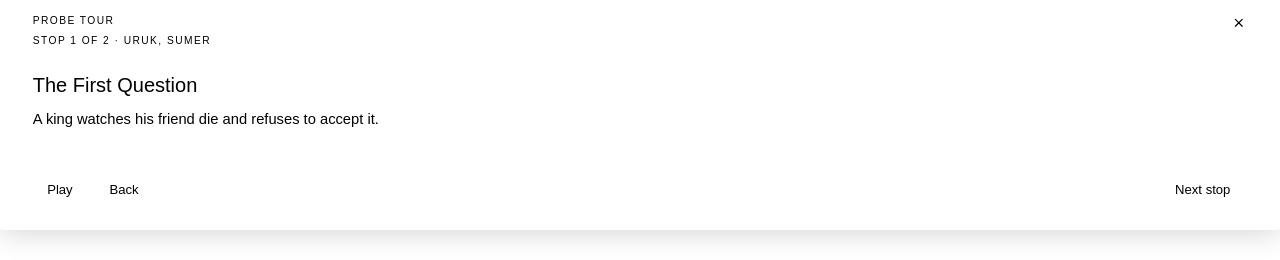
TourPlayer › advances to the next stop and writes the url without navigating
Expected: the heading "The First Question" is shown, [33,74,197,96]
What coordinates should you click on to do the following:
click the button "Next stop"
I would click on:
 (1203, 190)
Its box is [1161,176,1245,204].
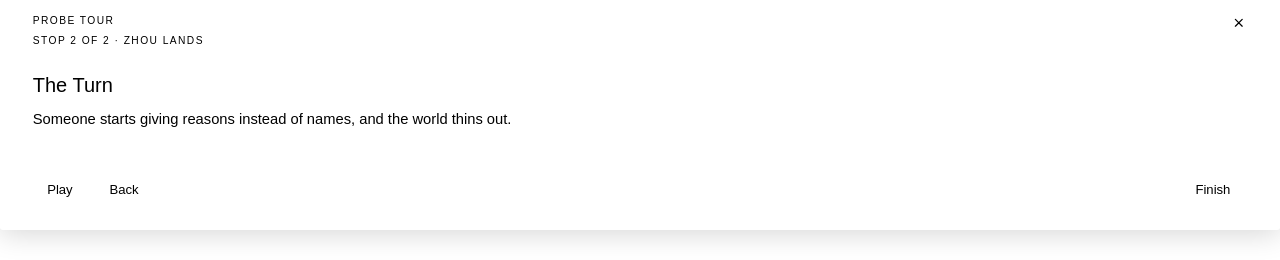
Expected: the heading "The Turn" is shown, [33,74,113,96]
